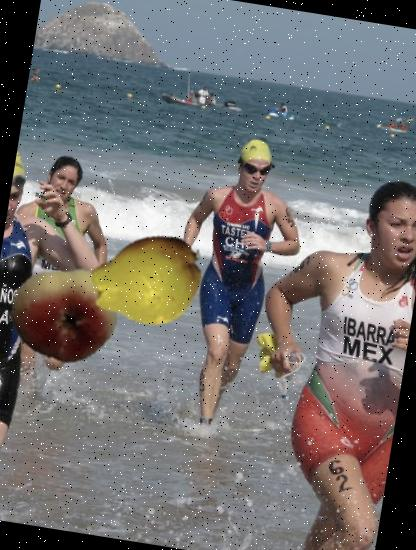Peach: (2, 256, 124, 378)
Quince: (84, 218, 214, 348)
